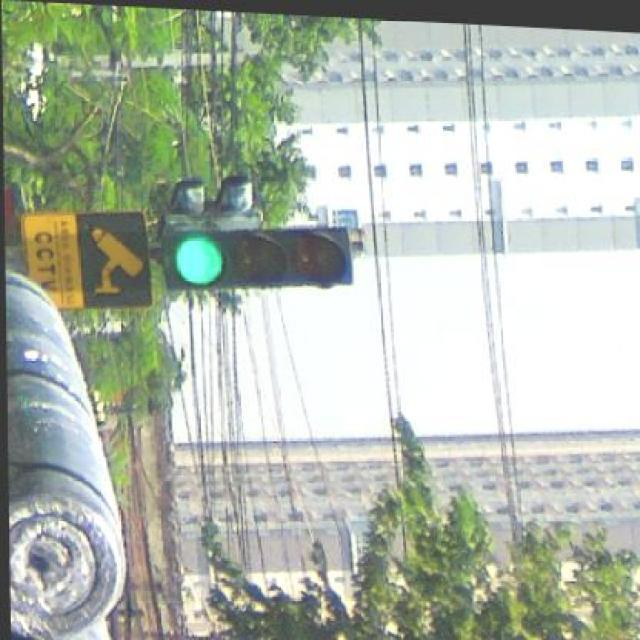traffic light: (162, 224, 353, 291)
